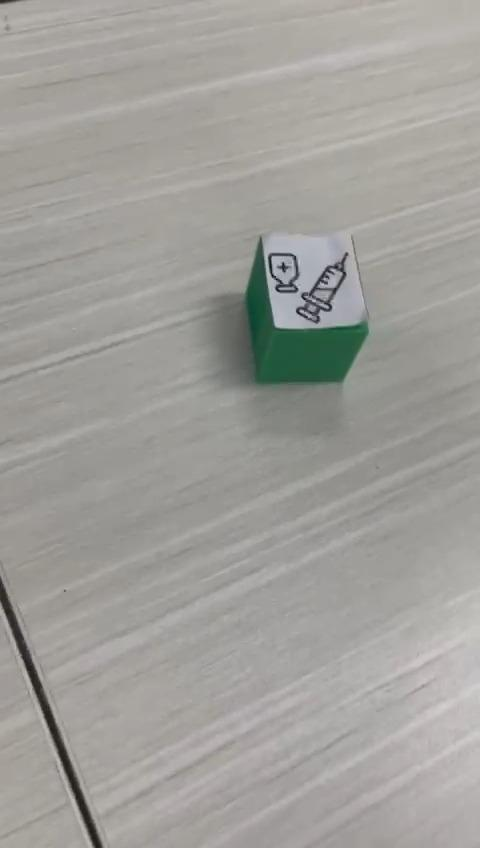antiseptic cream: (243, 228, 370, 384)
